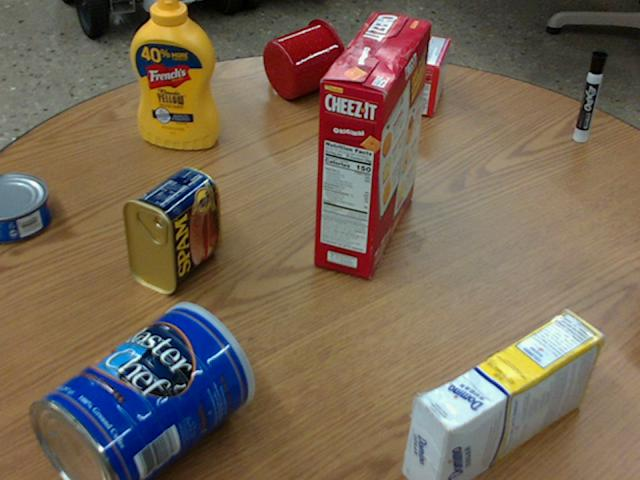cracker_box: (314, 13, 428, 277)
gelatin_box: (414, 37, 451, 117)
large_marker: (573, 50, 605, 141)
master_chef_can: (30, 302, 252, 479)
mug: (262, 17, 347, 99)
mustard_bottle: (130, 0, 217, 148)
potted_meat_can: (120, 165, 217, 293)
sugar_box: (401, 309, 602, 479)
tuna_fish_can: (0, 172, 51, 241)
